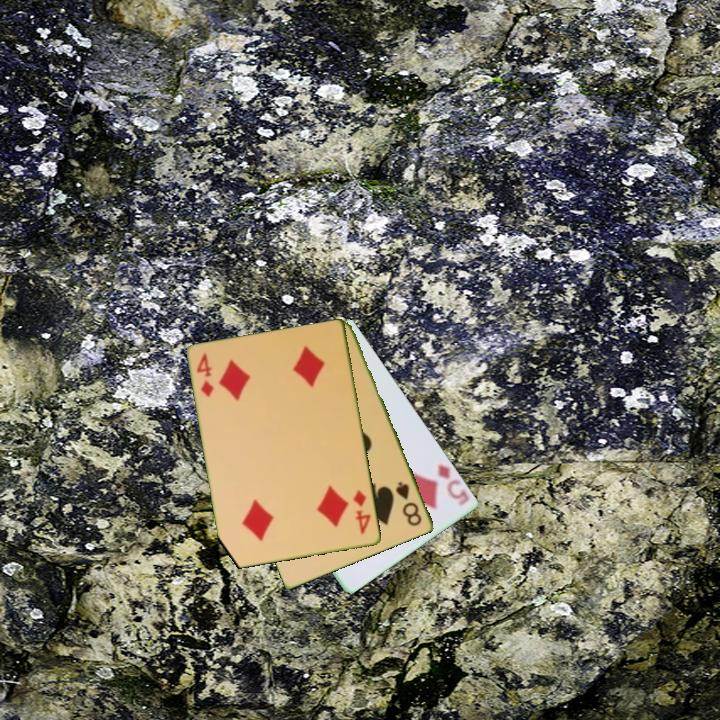4d: (350, 487, 374, 537), (193, 350, 217, 400)
5d: (434, 461, 473, 506)
8s: (392, 478, 425, 529)
